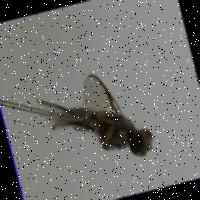Oriental-fruit-fly: (25, 52, 162, 181)
